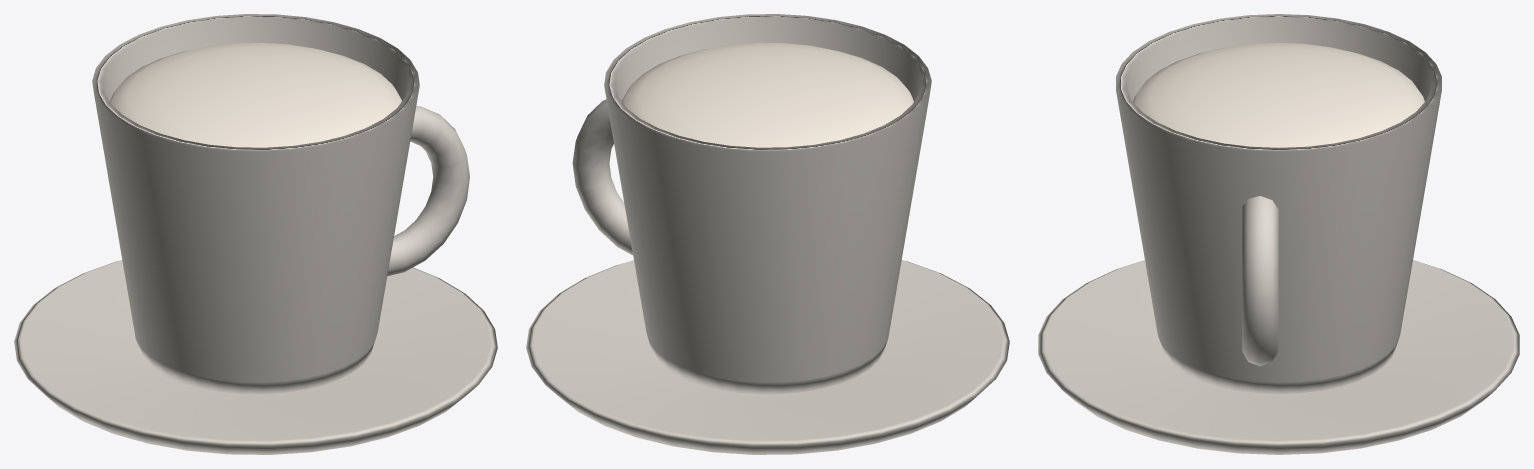
File: raf.glb
3 renders of one model, left to right at view 1: azimuth 30°, elevation 25°; view 2: azimuth 150°, elevation 25°; view 3: azimuth 270°, elevation 25°, orthographic.
Visible parts, largest first — view 1: raf; view 2: raf; view 3: raf.
Part boxes in pixels (box(x1,y1,x2,y2)): raf: box(14, 14, 497, 454); raf: box(526, 14, 1009, 454); raf: box(1038, 14, 1519, 454).
Size of the model in its own units: 0.124 by 0.0785 by 0.1235.
